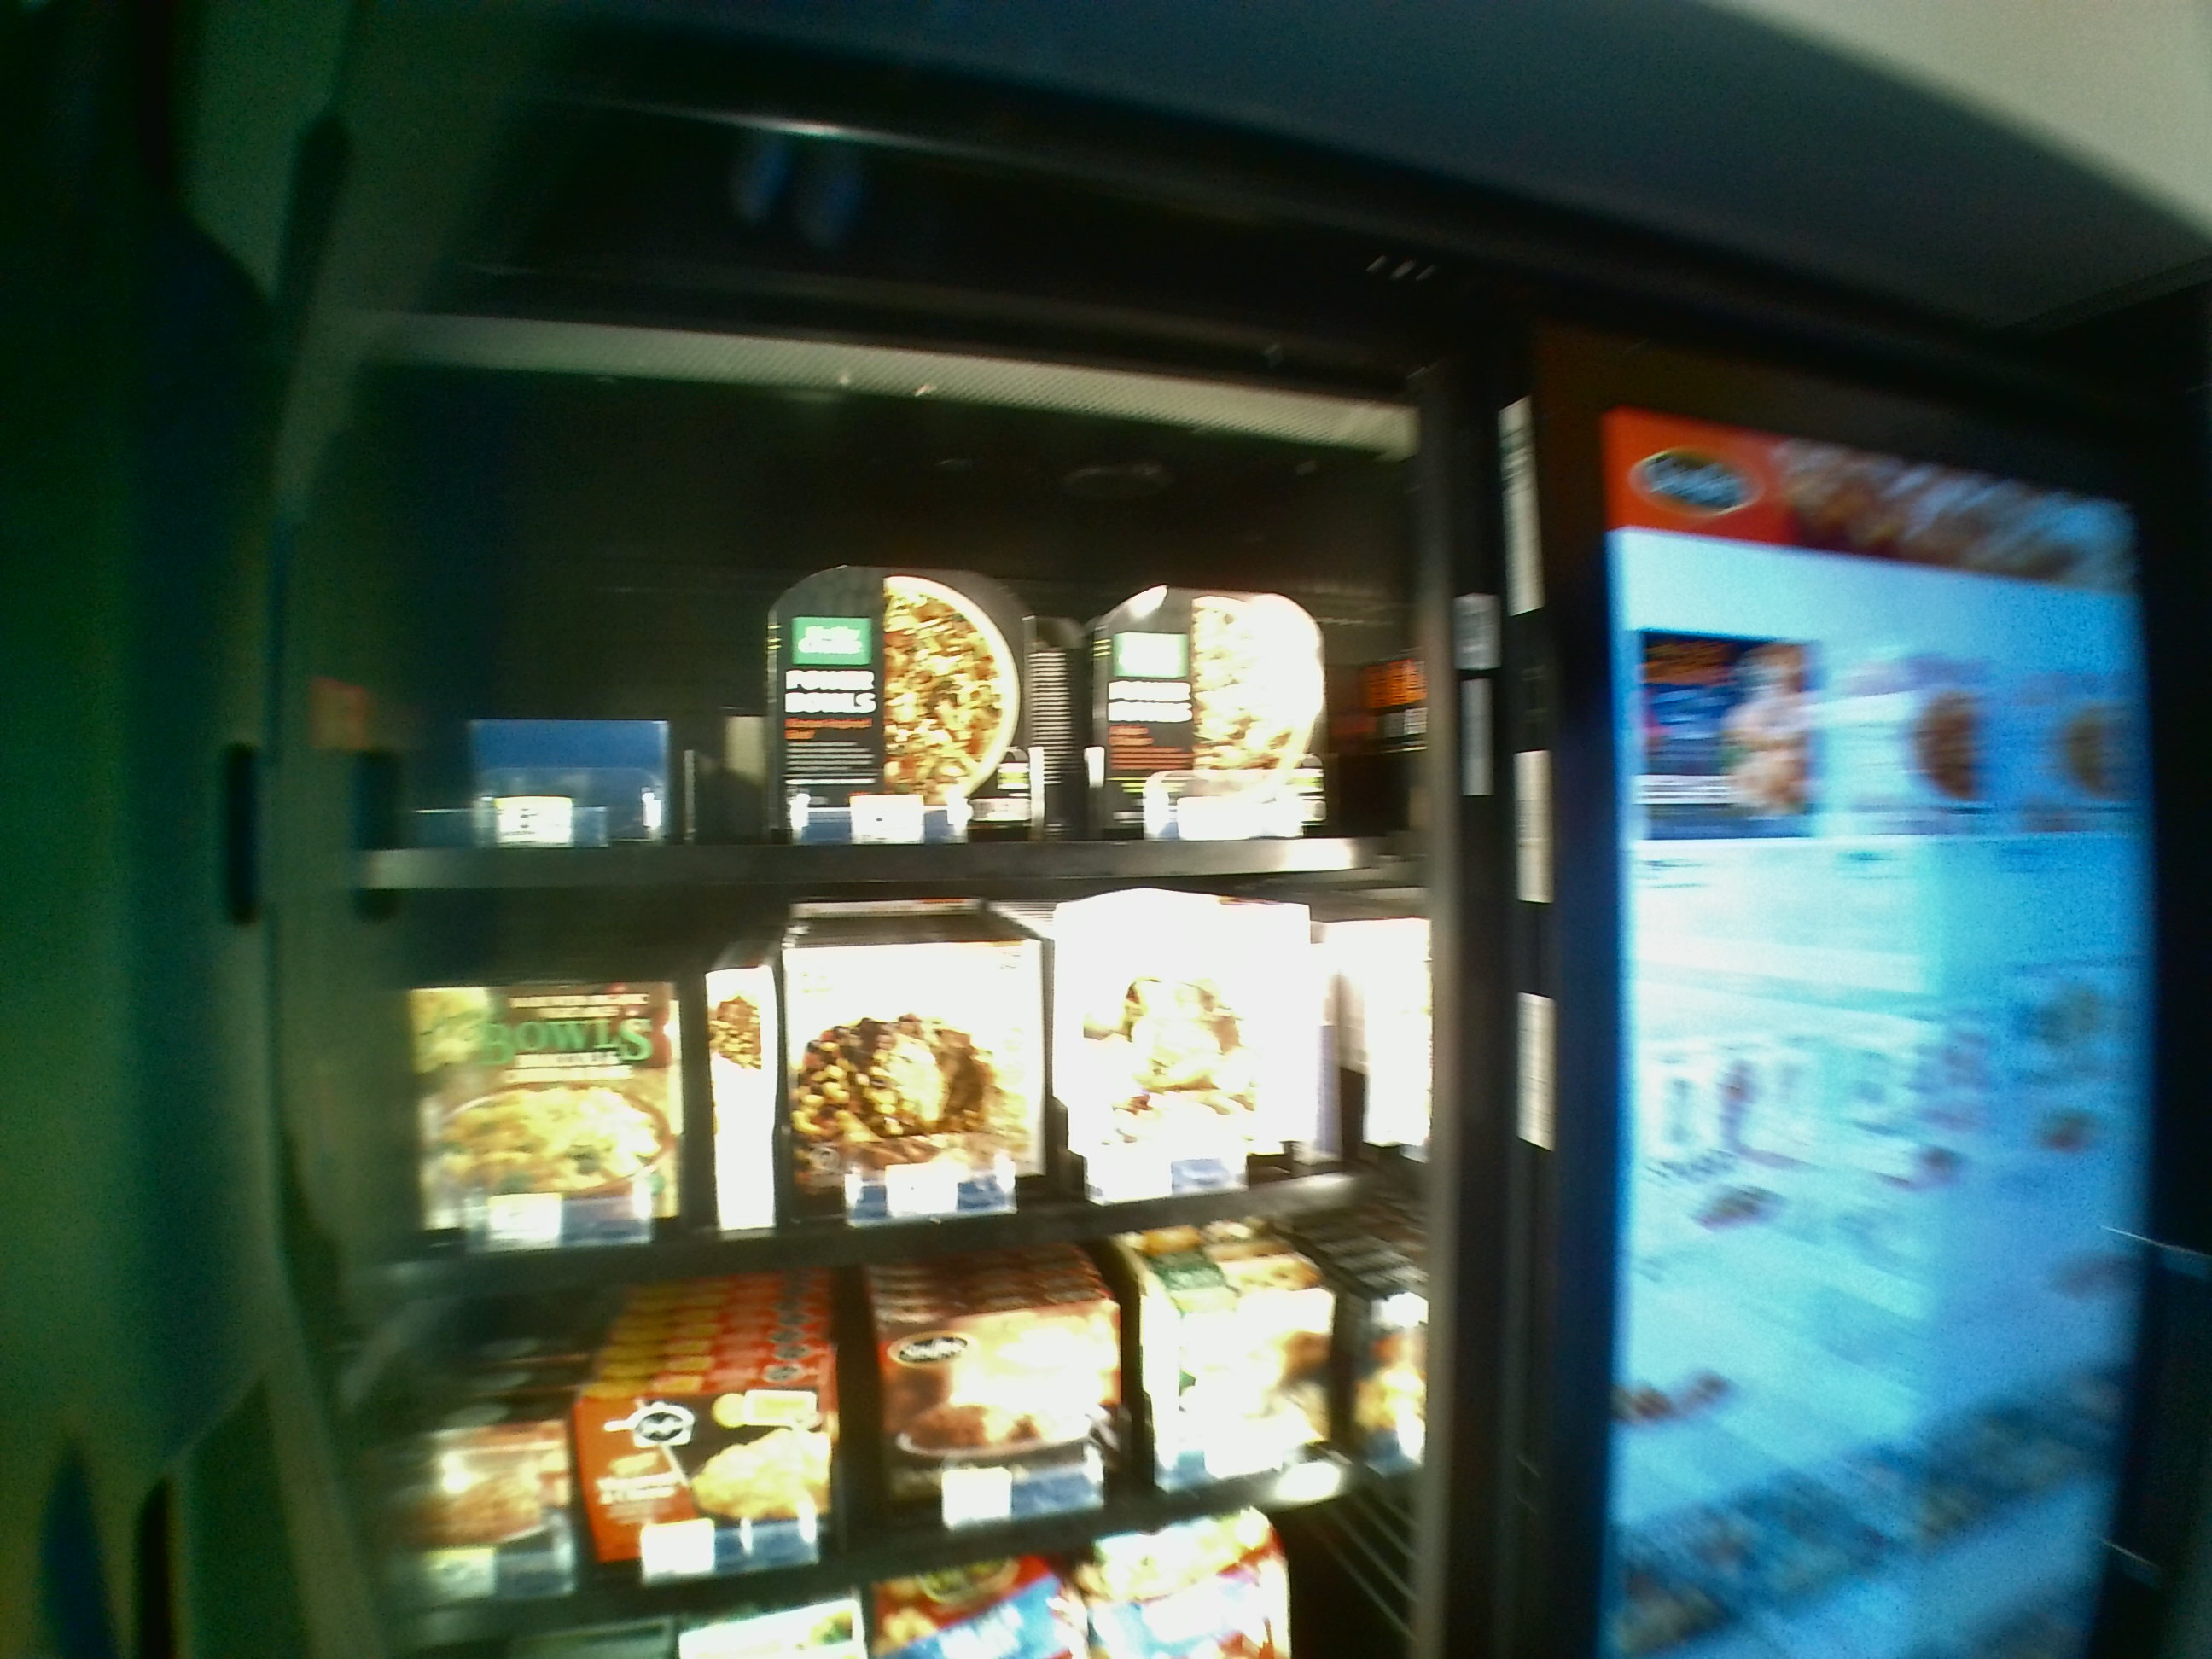shelf: (348, 457, 1416, 887), (334, 903, 1433, 1303)
